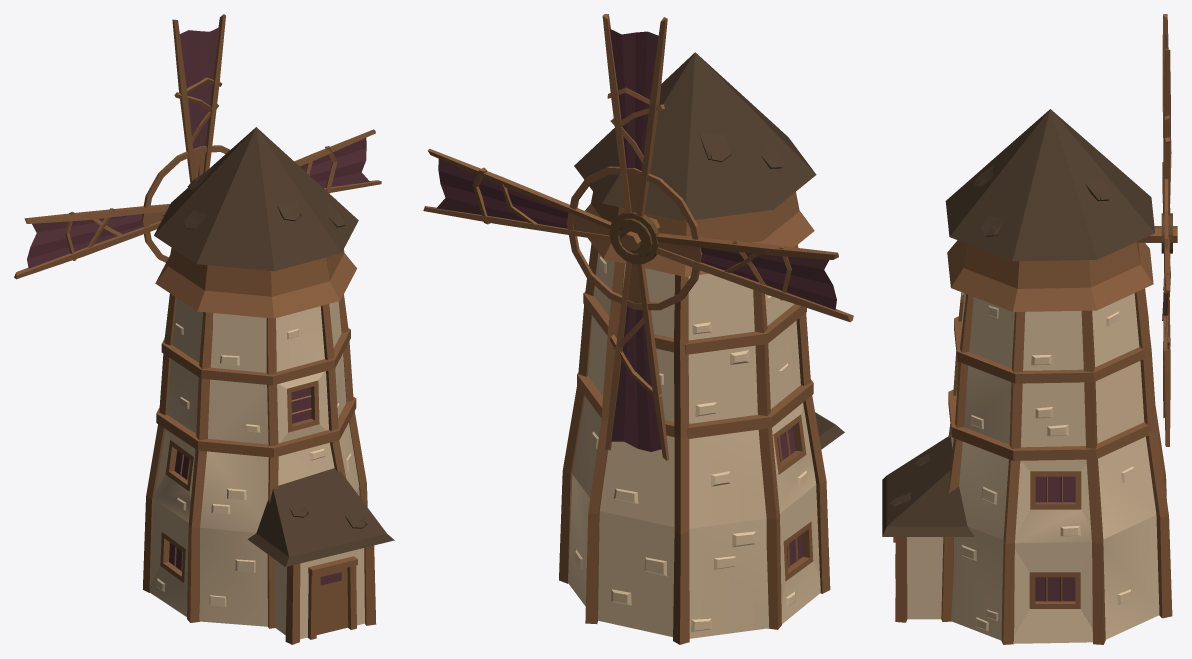
File: windmill-medieval.fbx
The picture shows the model from 3 angles, left to right: view 1: azimuth 30°, elevation 25°; view 2: azimuth 150°, elevation 25°; view 3: azimuth 270°, elevation 25°; orthographic projection. The views are drawn at different scales.
Parts seen in each view (by area): view 1: windmill-base-medieval, windmill-propeller-medieval; view 2: windmill-base-medieval, windmill-propeller-medieval; view 3: windmill-base-medieval, windmill-propeller-medieval.
Boxes of the visible parts, x1,y1,x2,y2 form: windmill-base-medieval: (143, 127, 394, 644); windmill-propeller-medieval: (14, 14, 381, 279); windmill-base-medieval: (559, 52, 844, 644); windmill-propeller-medieval: (423, 14, 853, 460); windmill-base-medieval: (882, 109, 1172, 644); windmill-propeller-medieval: (1137, 14, 1177, 446).
Bounding box in the file's own units: 10.46 × 14.49 × 6.83.
